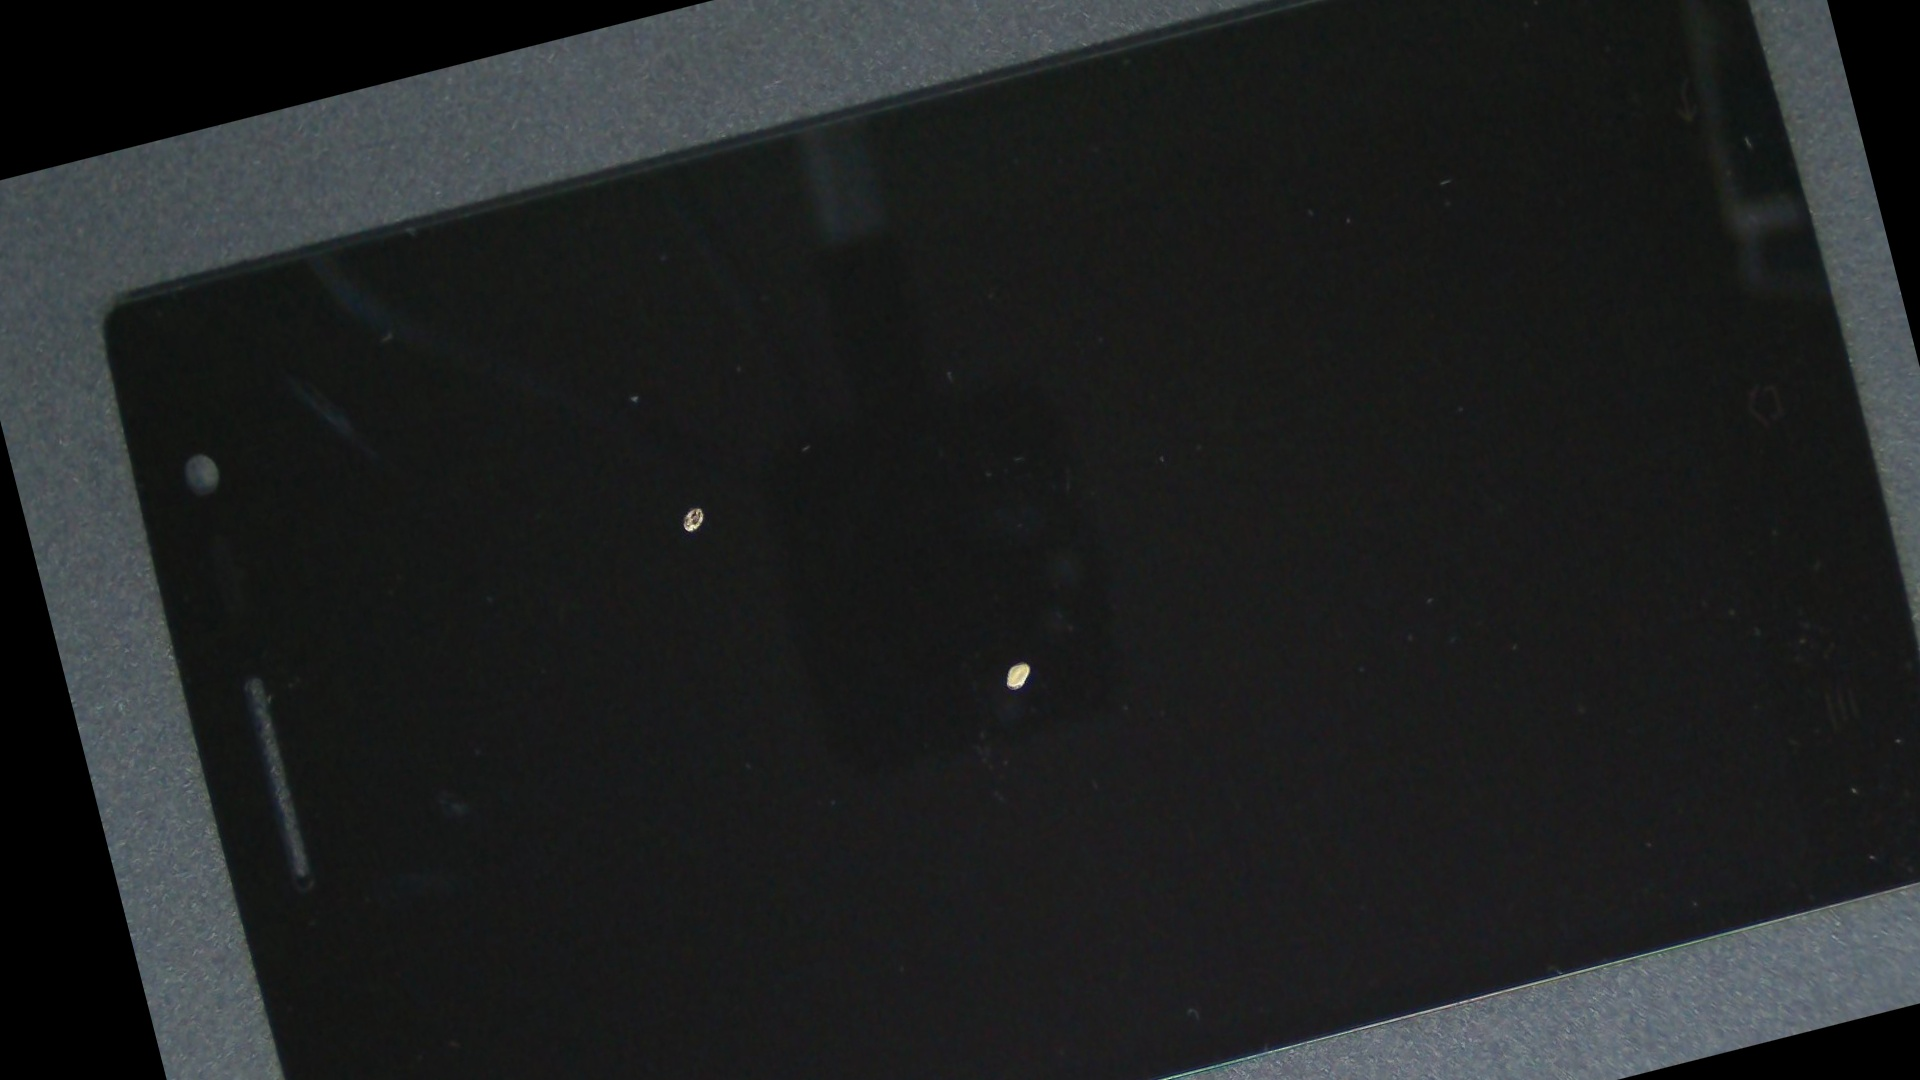oil: (480, 202, 1552, 1080), (316, 193, 1063, 823)
